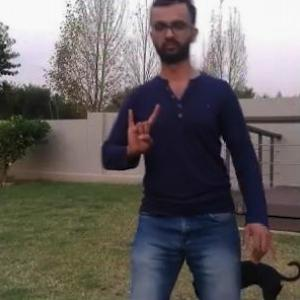takeoff-hand: (120, 97, 162, 159)
